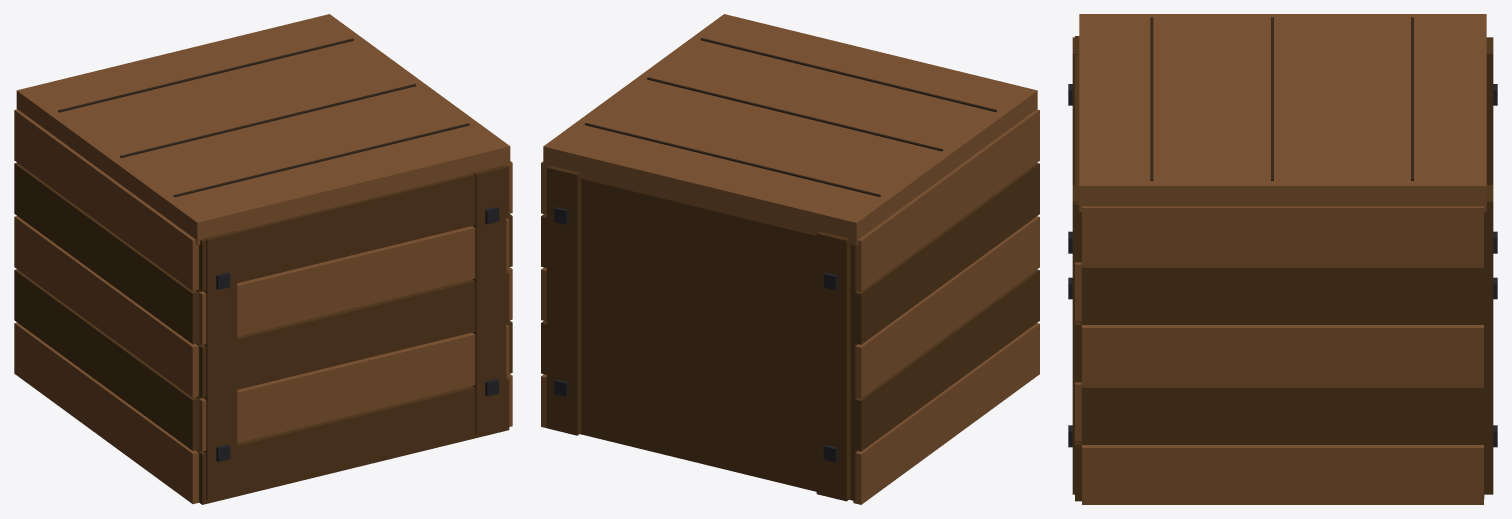
The model's file is mia-box.glb.
The picture shows the model from 3 angles, left to right: view 1: azimuth 30°, elevation 25°; view 2: azimuth 150°, elevation 25°; view 3: azimuth 270°, elevation 25°; orthographic projection. The views are drawn at different scales.
Parts seen in each view (by area): view 1: Body_oak, Body_wood, Body_grain, Body_iron; view 2: Body_wood, Body_oak, Body_grain, Body_iron; view 3: Body_oak, Body_wood, Body_grain, Body_iron.
Part boxes in pixels (x1,y1,x2,y2): Body_oak: (14, 14, 512, 503); Body_wood: (14, 162, 512, 504); Body_grain: (58, 38, 469, 197); Body_iron: (216, 206, 499, 461); Body_wood: (541, 163, 1039, 501); Body_oak: (541, 14, 1039, 504); Body_grain: (584, 38, 996, 196); Body_iron: (554, 207, 837, 462); Body_oak: (1075, 14, 1486, 504); Body_wood: (1072, 36, 1493, 501); Body_grain: (1150, 17, 1413, 180); Body_iron: (1068, 84, 1497, 447).
Bounding box in the file's own units: 0.716 × 0.6055 × 0.739.
